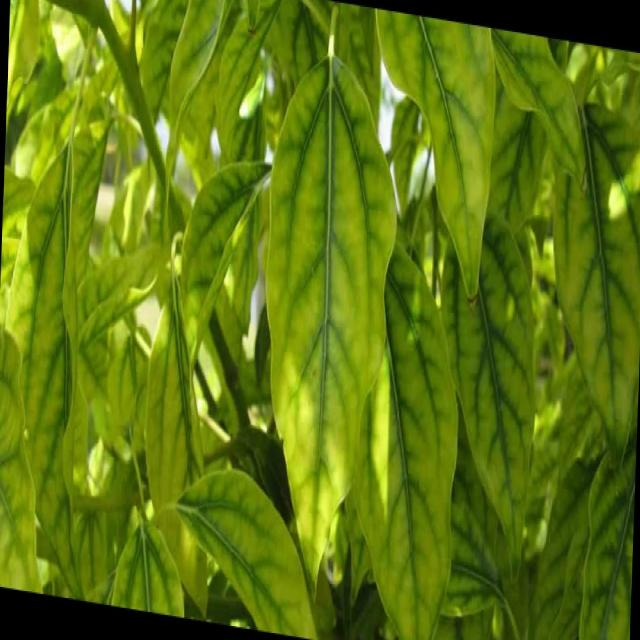Chlorosis: (8, 6, 628, 634)
